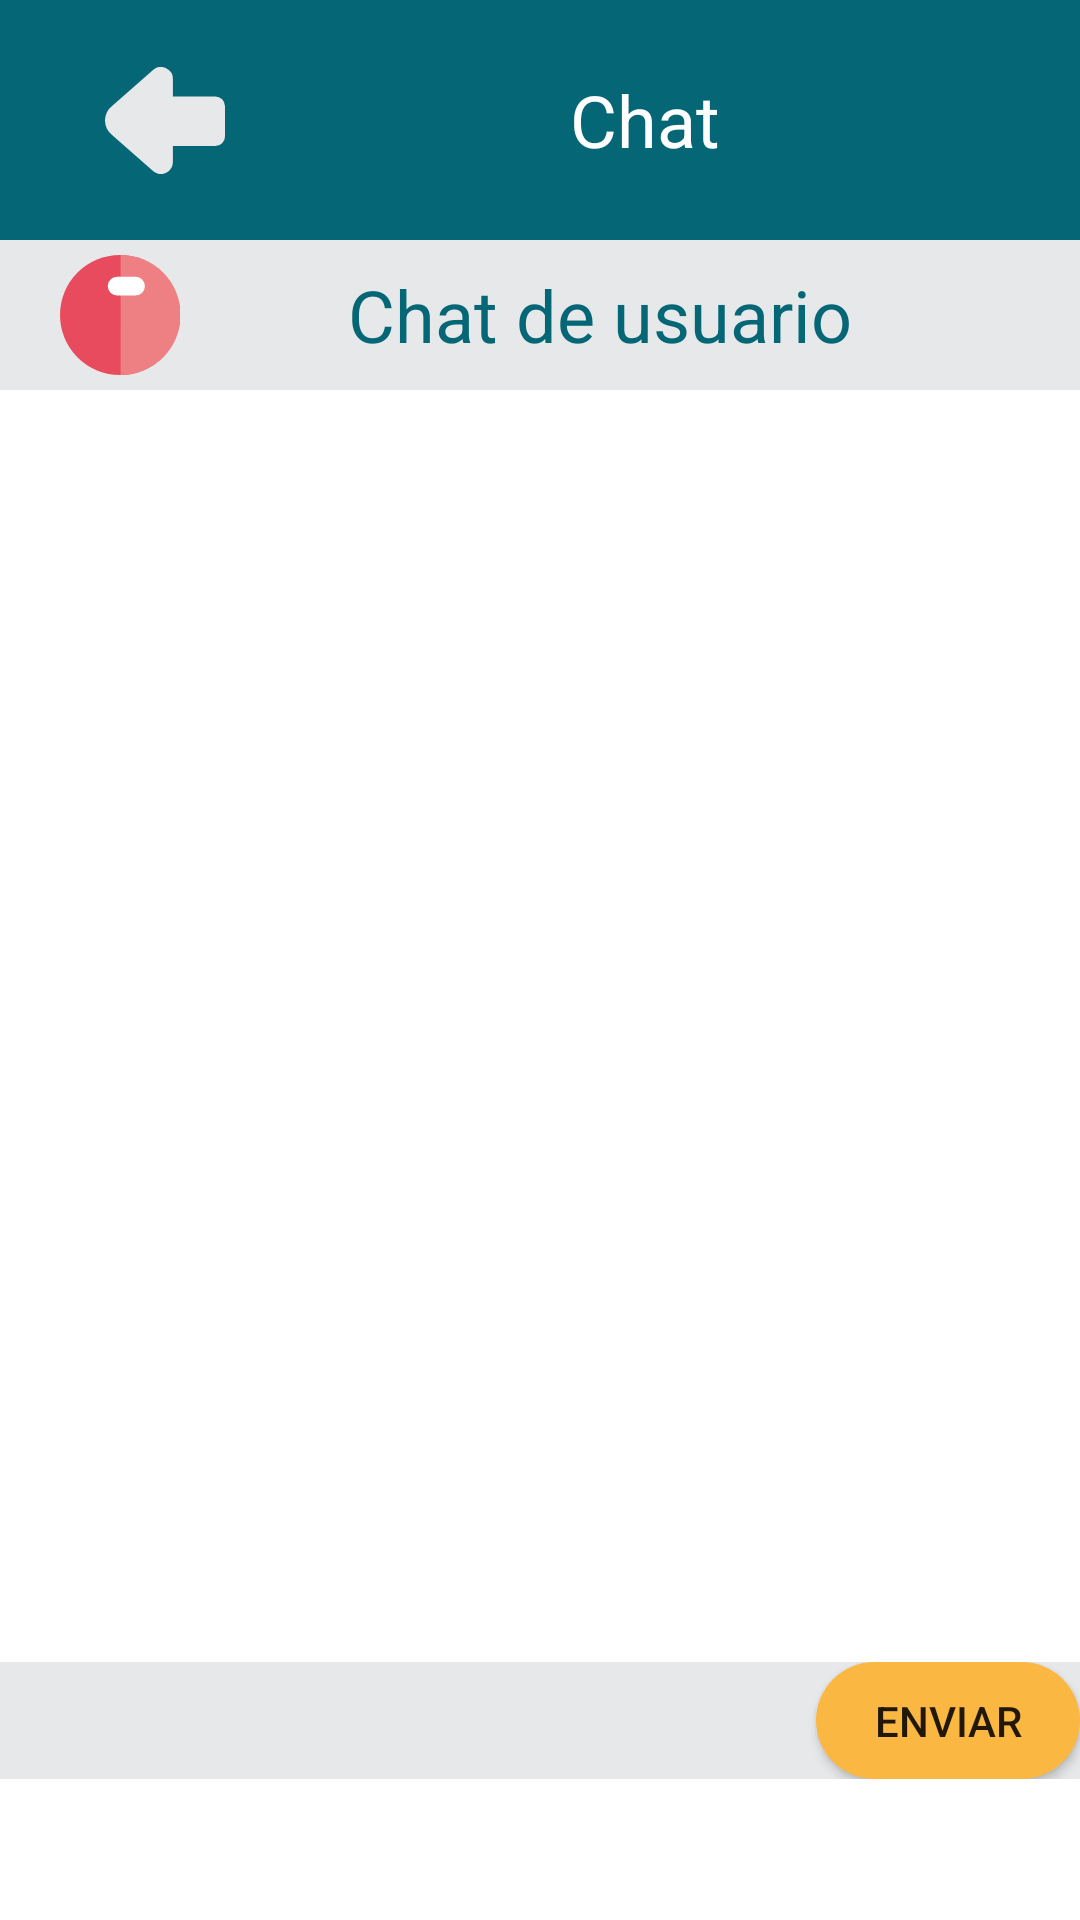

Icons on this 1080px x 1920px Android screen, each with the point to tap as (x,y):
circulo rojo: (120,315)
flechaatras: (165,120)
